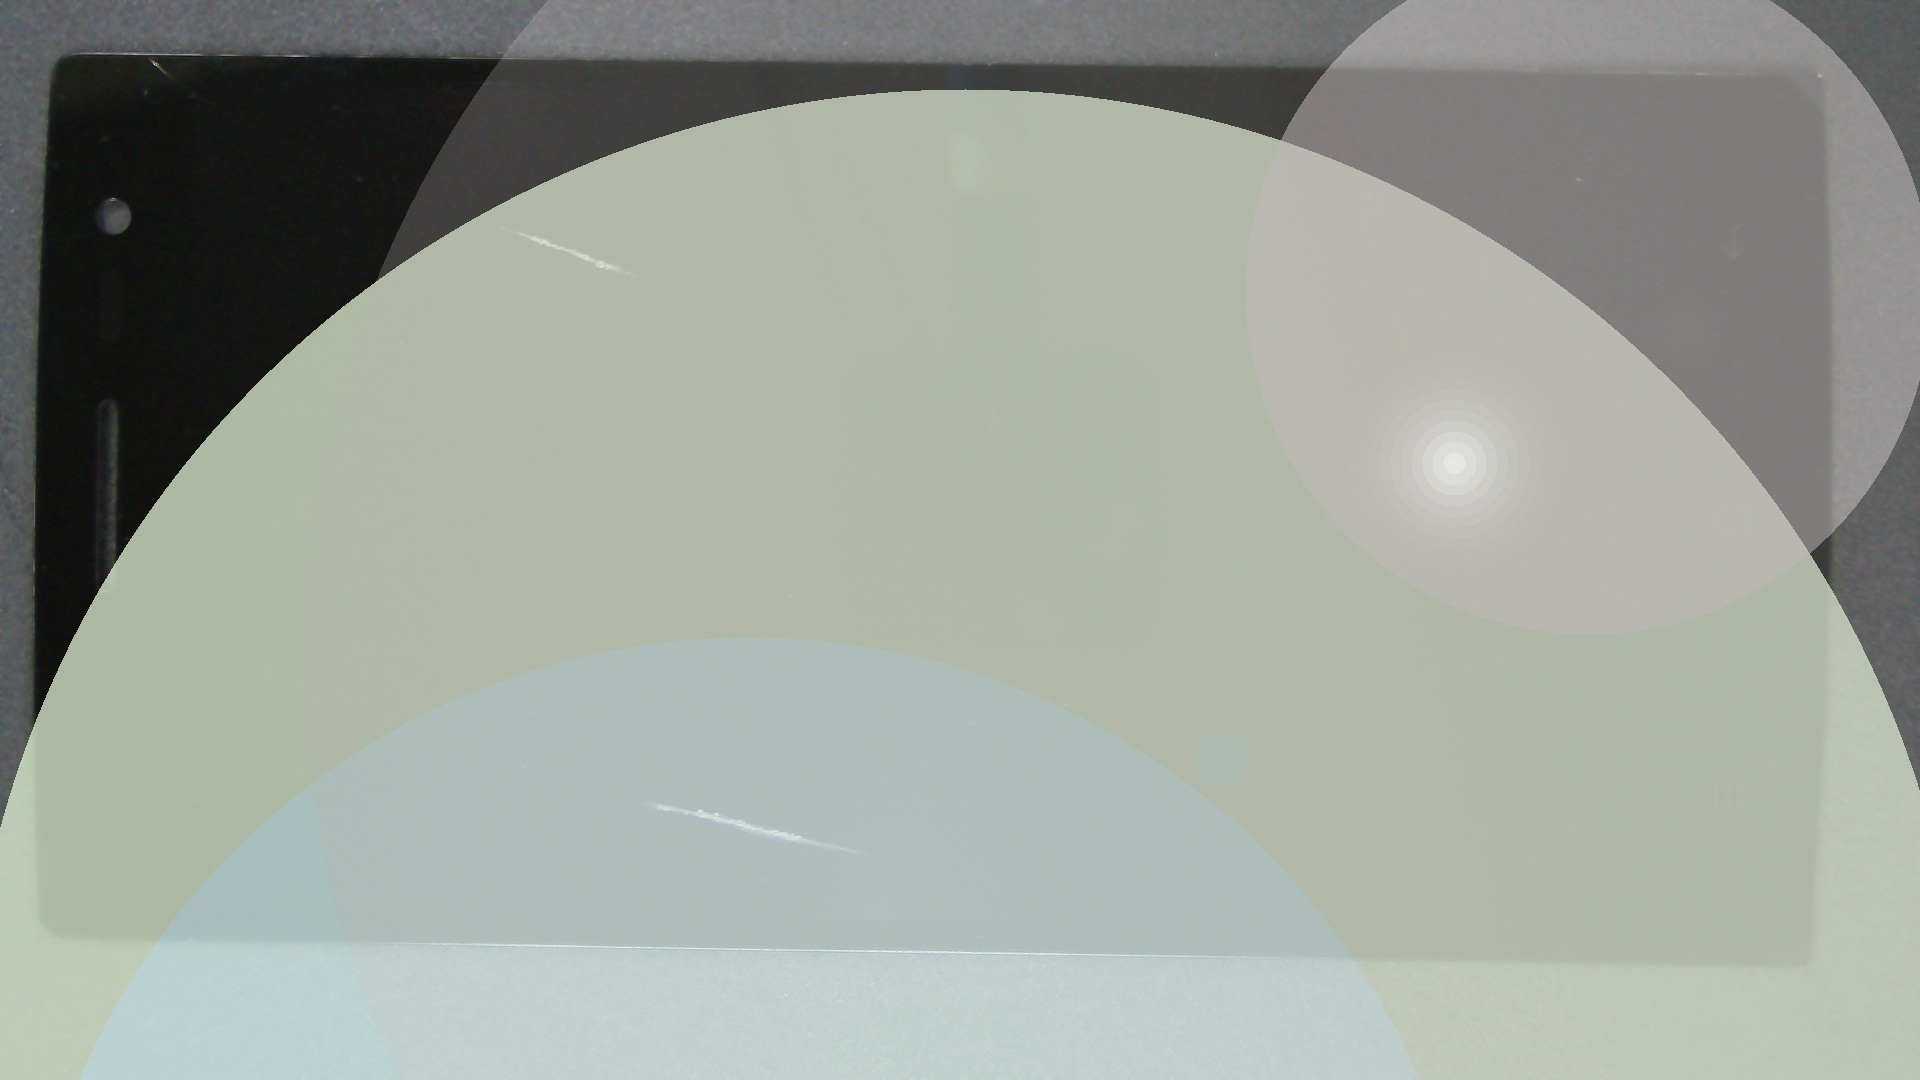oil: (322, 400, 967, 1080), (251, 115, 756, 343)
